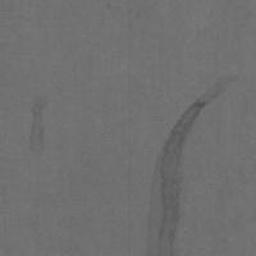Water spot: (146, 82, 225, 256), (30, 122, 44, 150), (32, 99, 45, 120)
